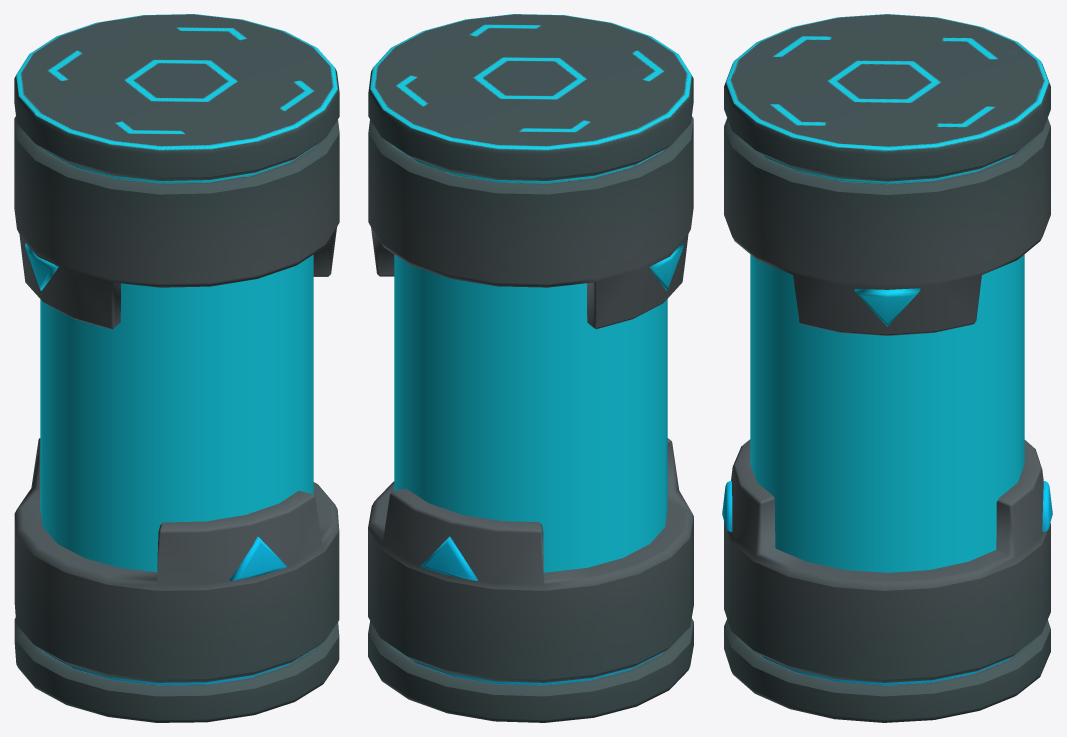
File: SM_Core.fbx
The picture shows the model from 3 angles, left to right: view 1: azimuth 30°, elevation 25°; view 2: azimuth 150°, elevation 25°; view 3: azimuth 270°, elevation 25°; orthographic projection.
Parts seen in each view (by area): view 1: core_up, core_down; view 2: core_up, core_down; view 3: core_up, core_down.
Boxes of the visible parts, left/top/right/bottom form: core_up: left=14, top=14, right=339, bottom=572; core_down: left=14, top=438, right=339, bottom=722; core_up: left=368, top=14, right=693, bottom=572; core_down: left=368, top=438, right=693, bottom=722; core_up: left=724, top=14, right=1050, bottom=572; core_down: left=722, top=439, right=1052, bottom=722.
Size of the model in its own units: 0.6399 by 1.22 by 0.6373.
1 material, 1 textured.
